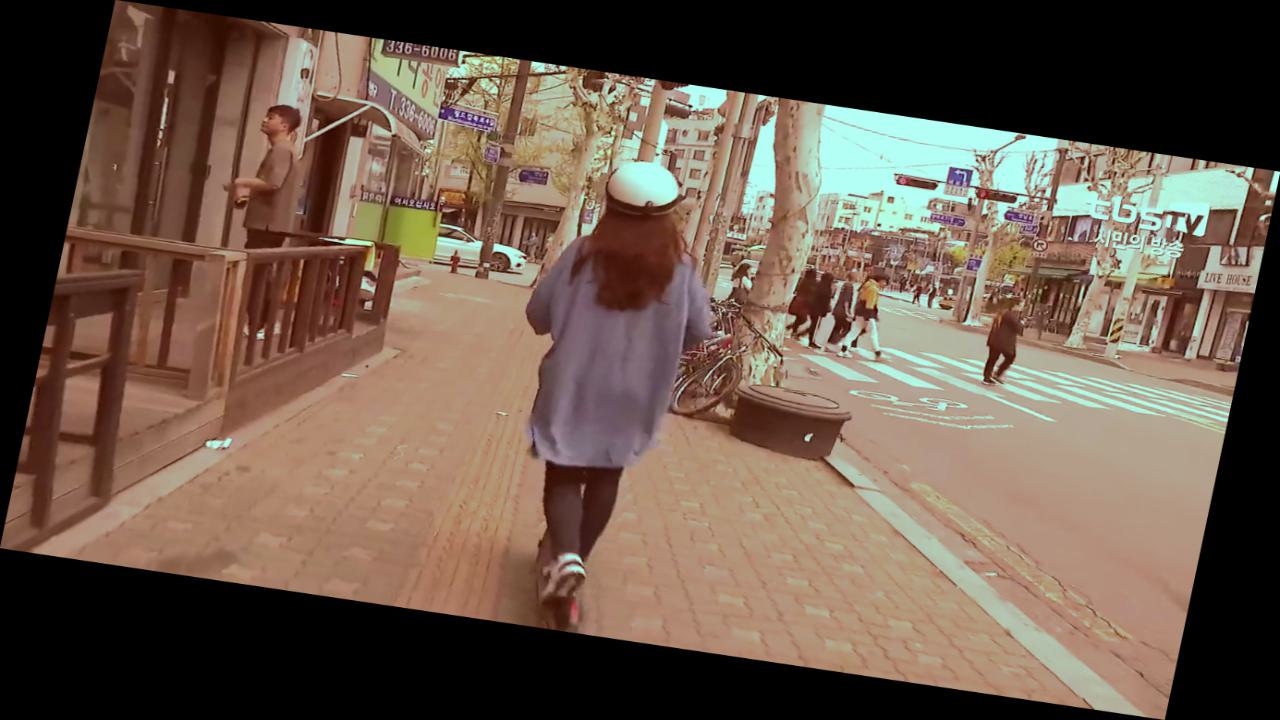helmet: (460, 146, 751, 644)
